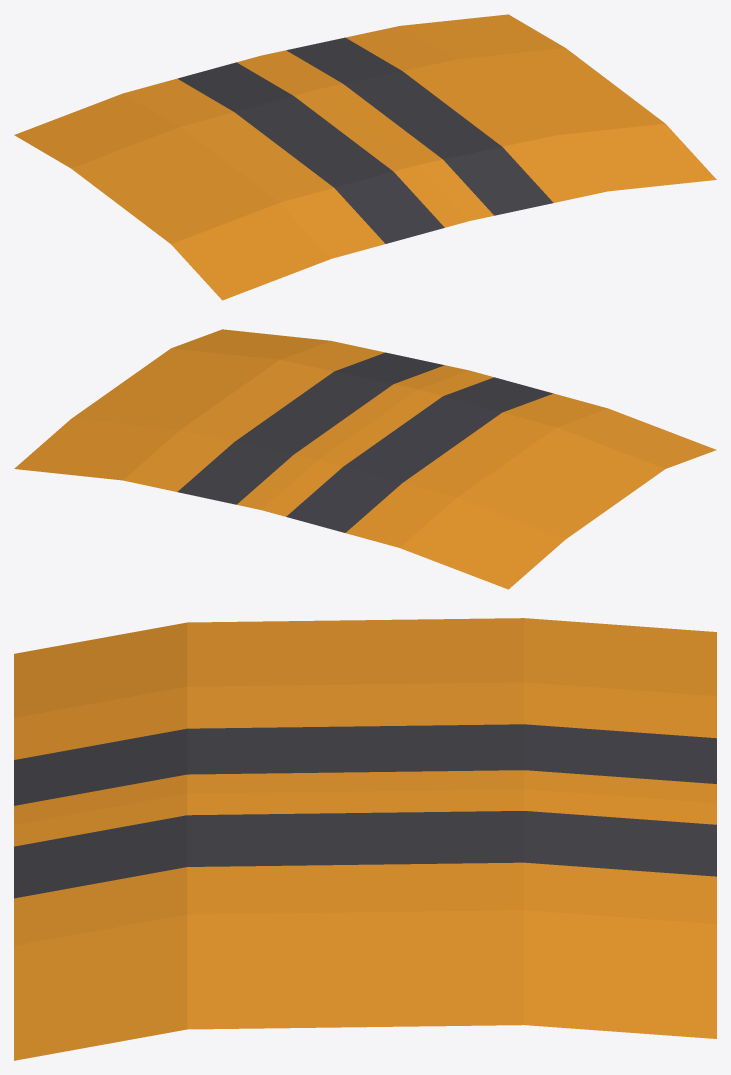
Rendered from protoCoupe_roof_tsubame.glb.
3 views of the same model, one above another, from view 1: azimuth 30°, elevation 25°; view 2: azimuth 150°, elevation 25°; view 3: azimuth 270°, elevation 25° (orthographic). The views are drawn at different scales.
Parts seen in each view (by area): view 1: roof_tsubame; view 2: roof_tsubame; view 3: roof_tsubame.
Part boxes in pixels (x1,y1,x2,y2): roof_tsubame: (14, 14, 716, 300); roof_tsubame: (14, 329, 716, 589); roof_tsubame: (14, 618, 716, 1060).
Size of the model in its own units: 1 by 0.078 by 0.7299.
